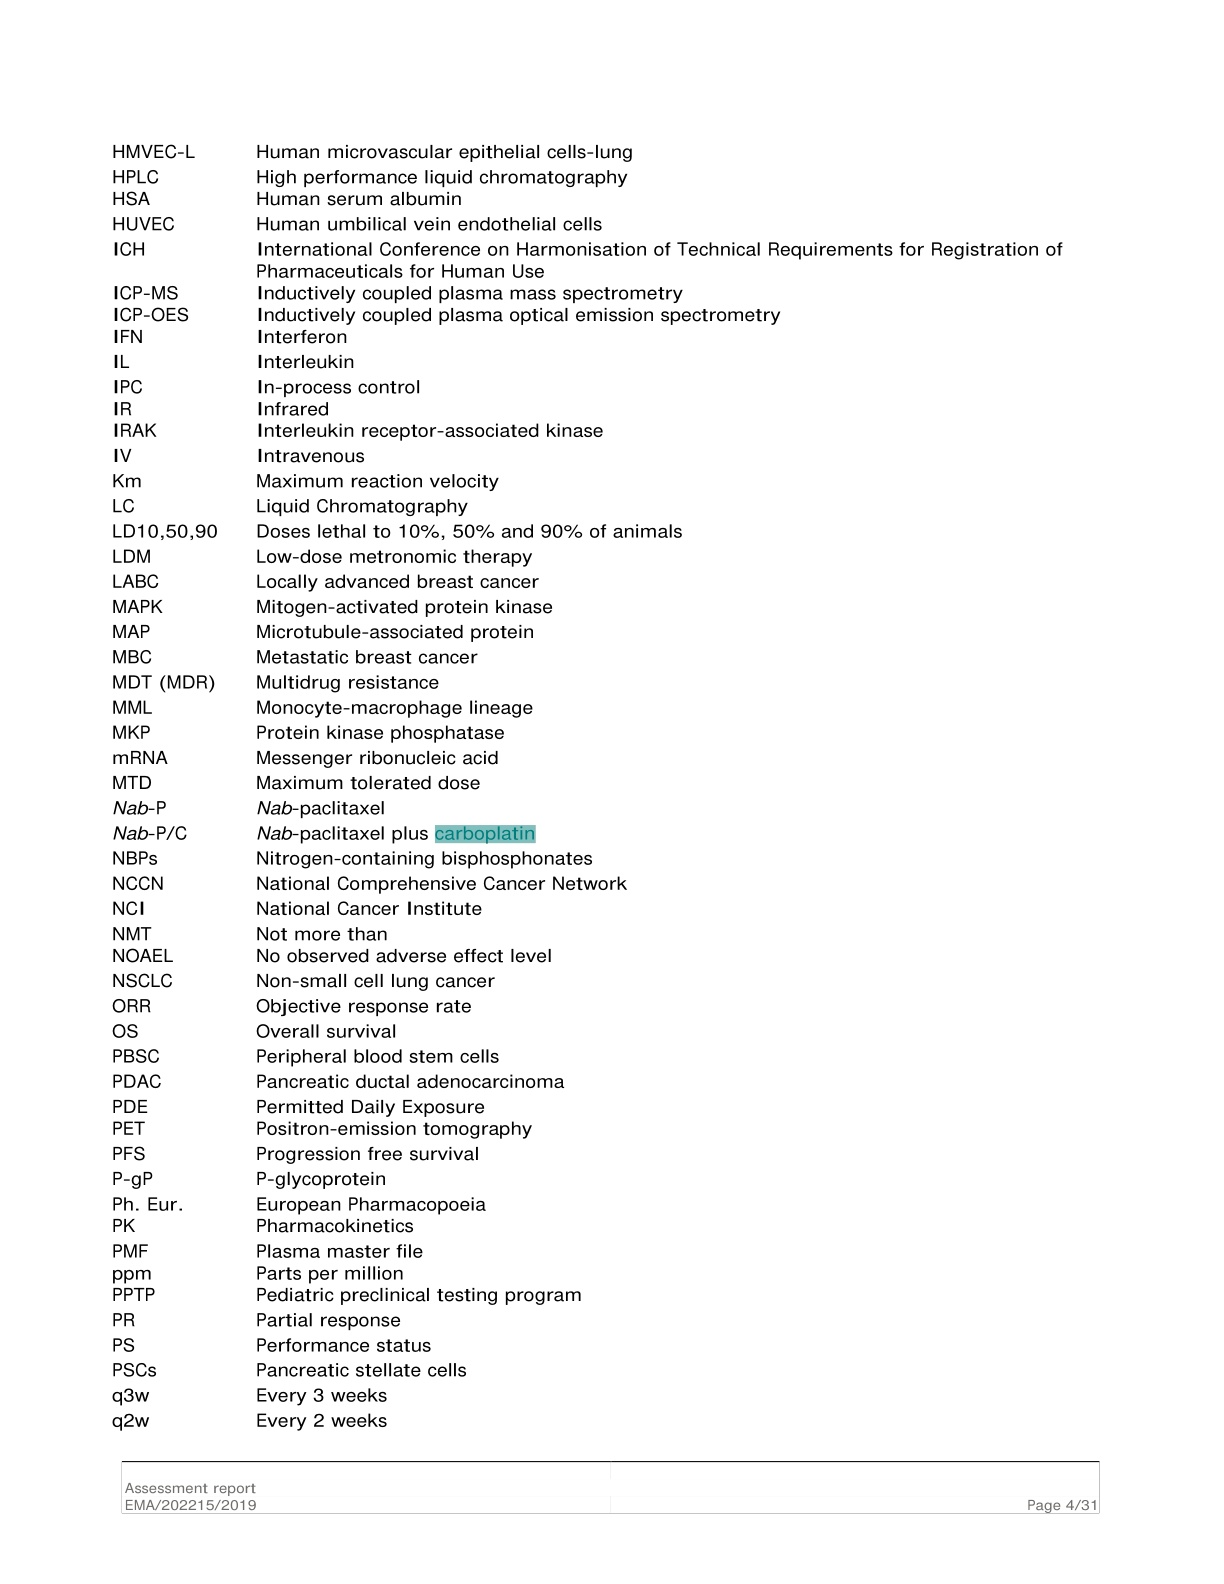nolines: (103, 126, 1065, 1434)
